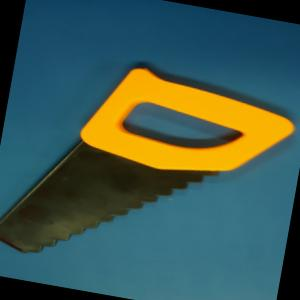serrote: (0, 46, 299, 296)
